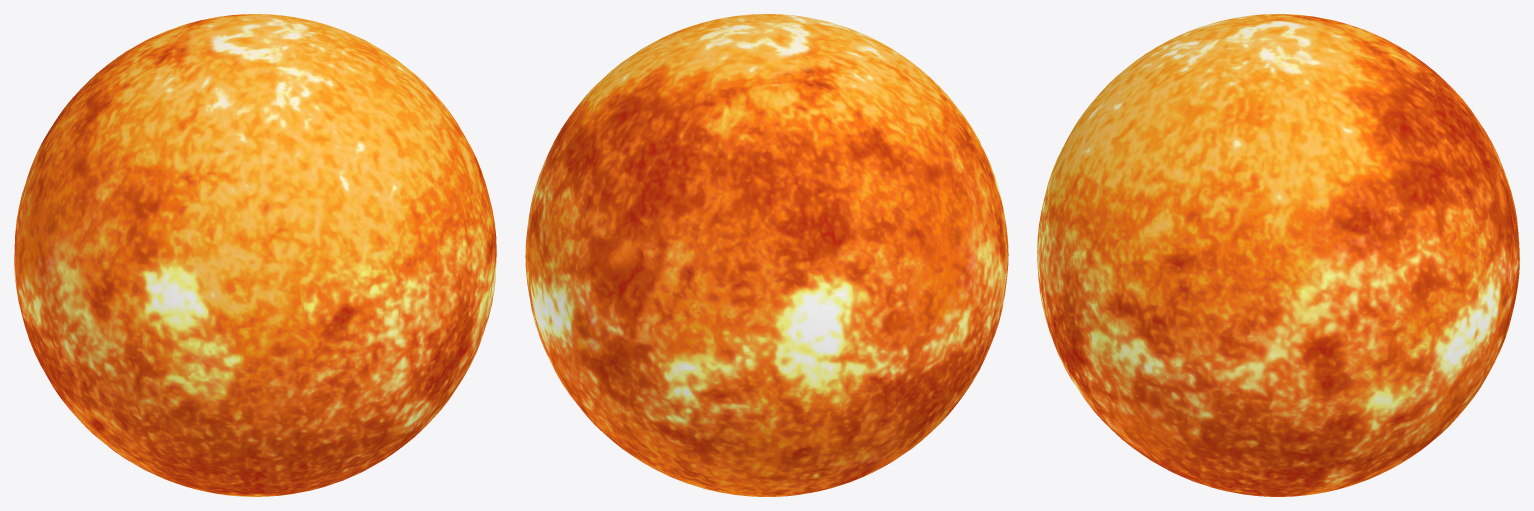
File: sun.glb
The picture shows the model from 3 angles, left to right: view 1: azimuth 30°, elevation 25°; view 2: azimuth 150°, elevation 25°; view 3: azimuth 270°, elevation 25°; orthographic projection.
Parts seen in each view (by area): view 1: sun1; view 2: sun1; view 3: sun1.
Part boxes in pixels (box(x1,y1,x2,y2)): sun1: box(14, 14, 496, 496); sun1: box(525, 14, 1008, 496); sun1: box(1037, 14, 1519, 496).
Bounding box in the file's own units: 1.99 × 1.99 × 1.99.
Materials: 1 (1 with a texture image).
